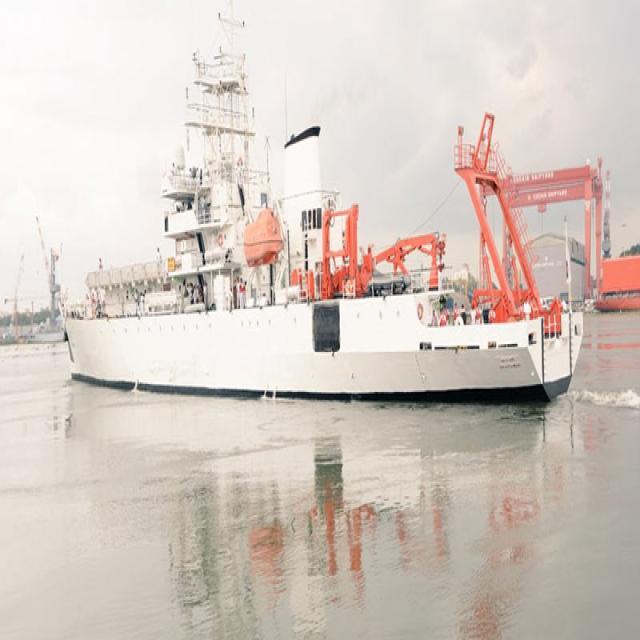Research-Vessel-Sagardhwani-Class-IND: (58, 0, 585, 397)
